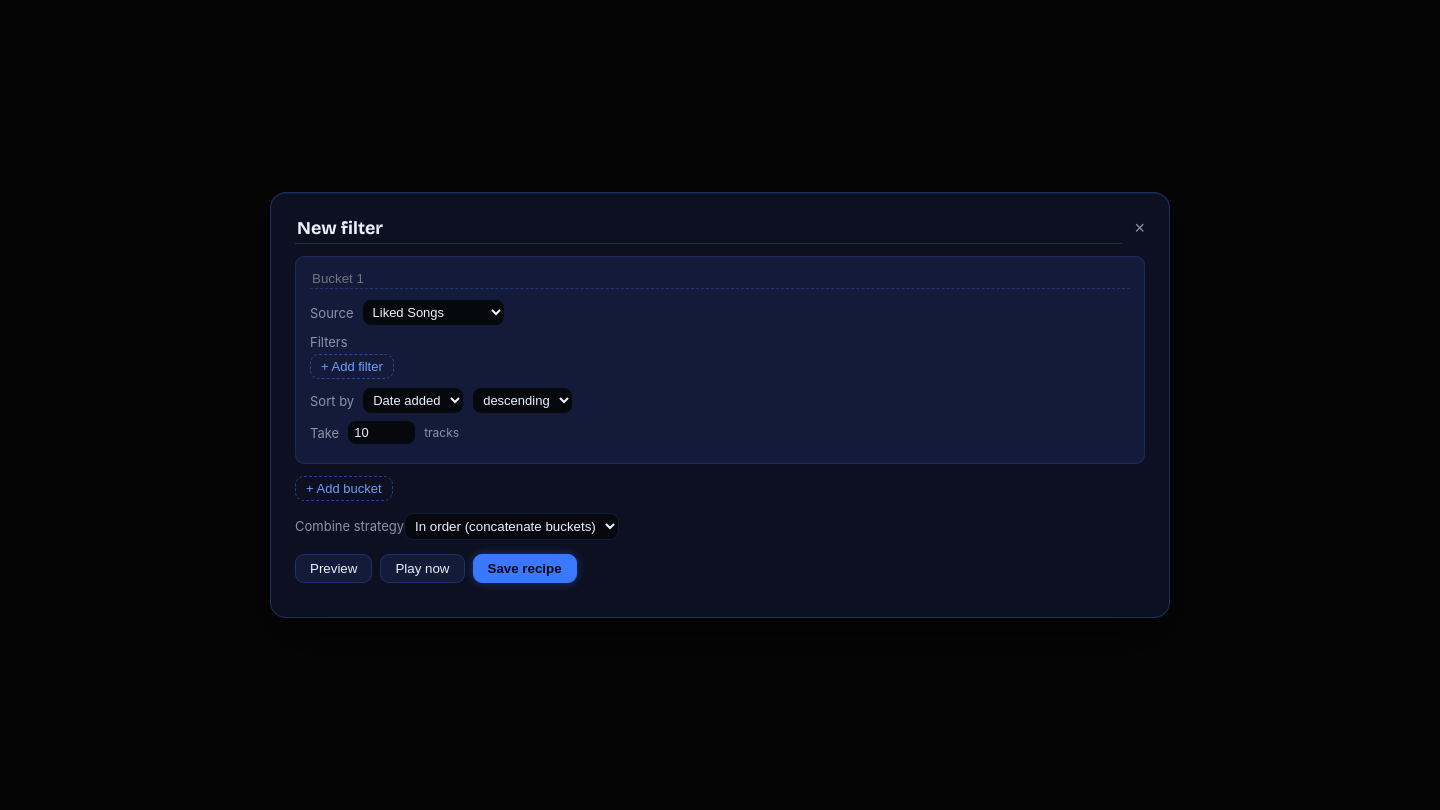
Test: RecipeBuilder › previews the recipe and shows the resolved tracks
Expected: the dialog is shown, [270,192,1170,618]
Click the button "Preview". click: point(334, 568)
box: [295,554,372,583]
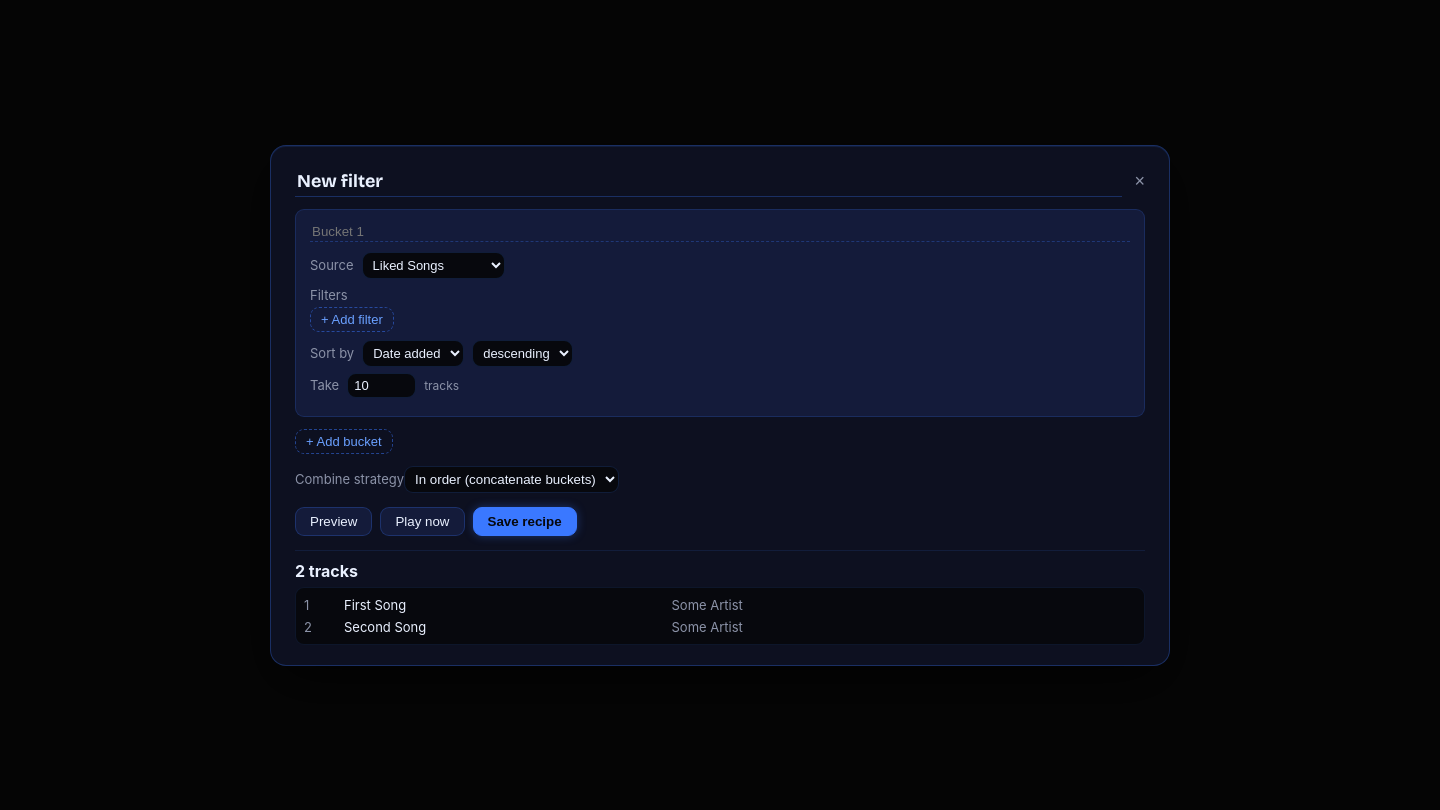
Expected: the text "2 tracks" is shown, [295,560,358,580]
Expected: the text "First Song" is shown, [344,596,406,612]
Expected: the text "Second Song" is shown, [344,618,426,634]
